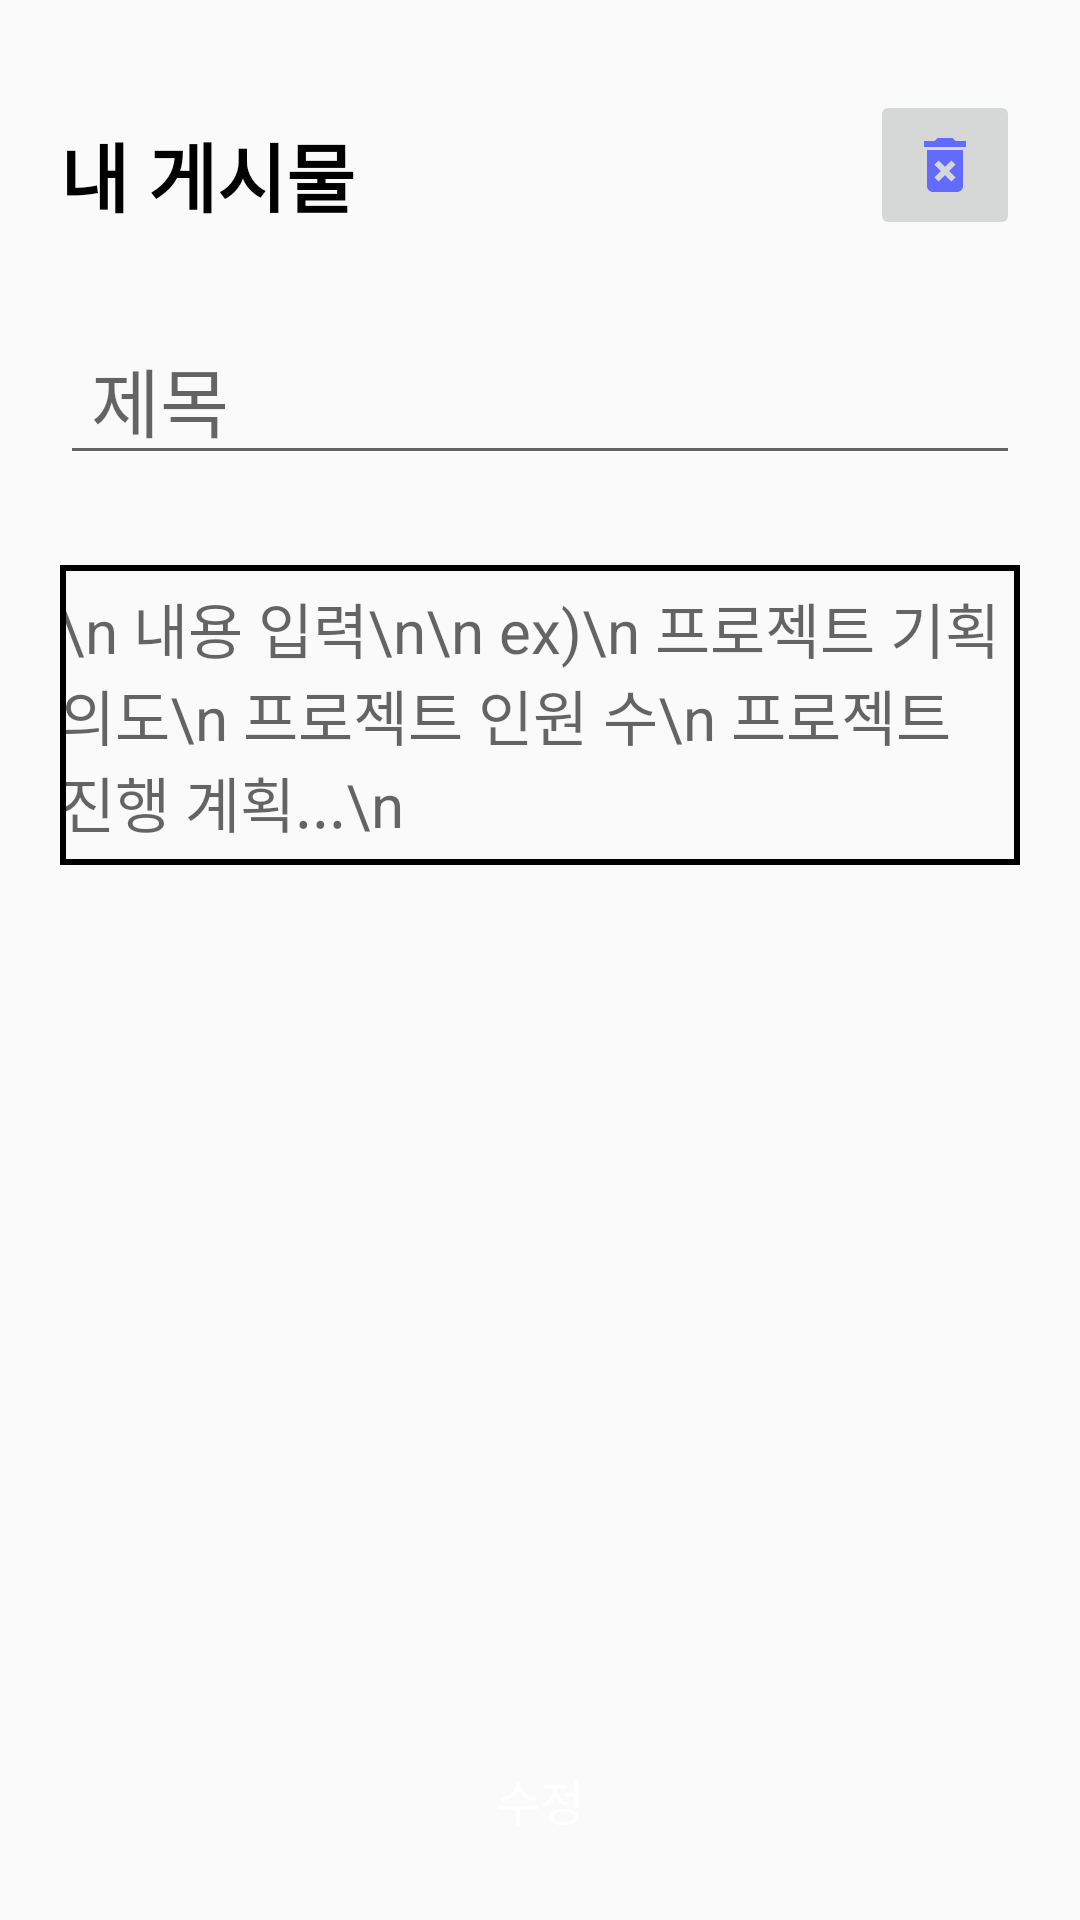

Where to tap for icons on this 1080 x 1920 app screen, as (x=x, y=y):
delete forever: (x=945, y=165)
